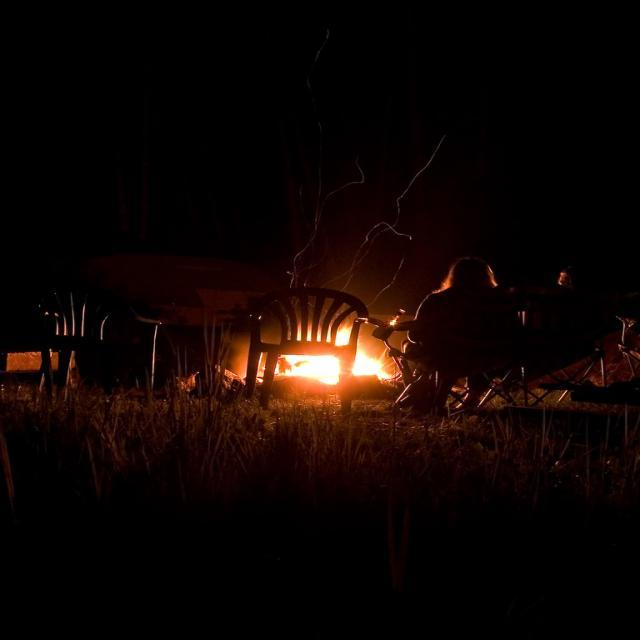Fire: (290, 353, 388, 386)
